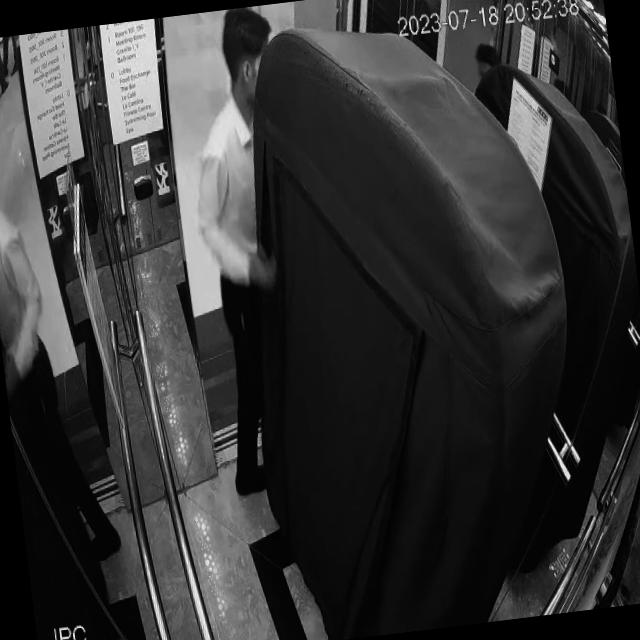person: (176, 4, 325, 497), (0, 98, 133, 608)
